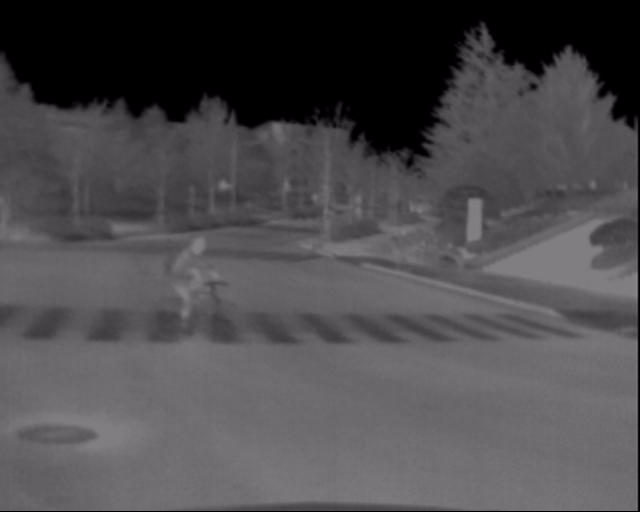person: (174, 241, 225, 326), (389, 222, 409, 271)
